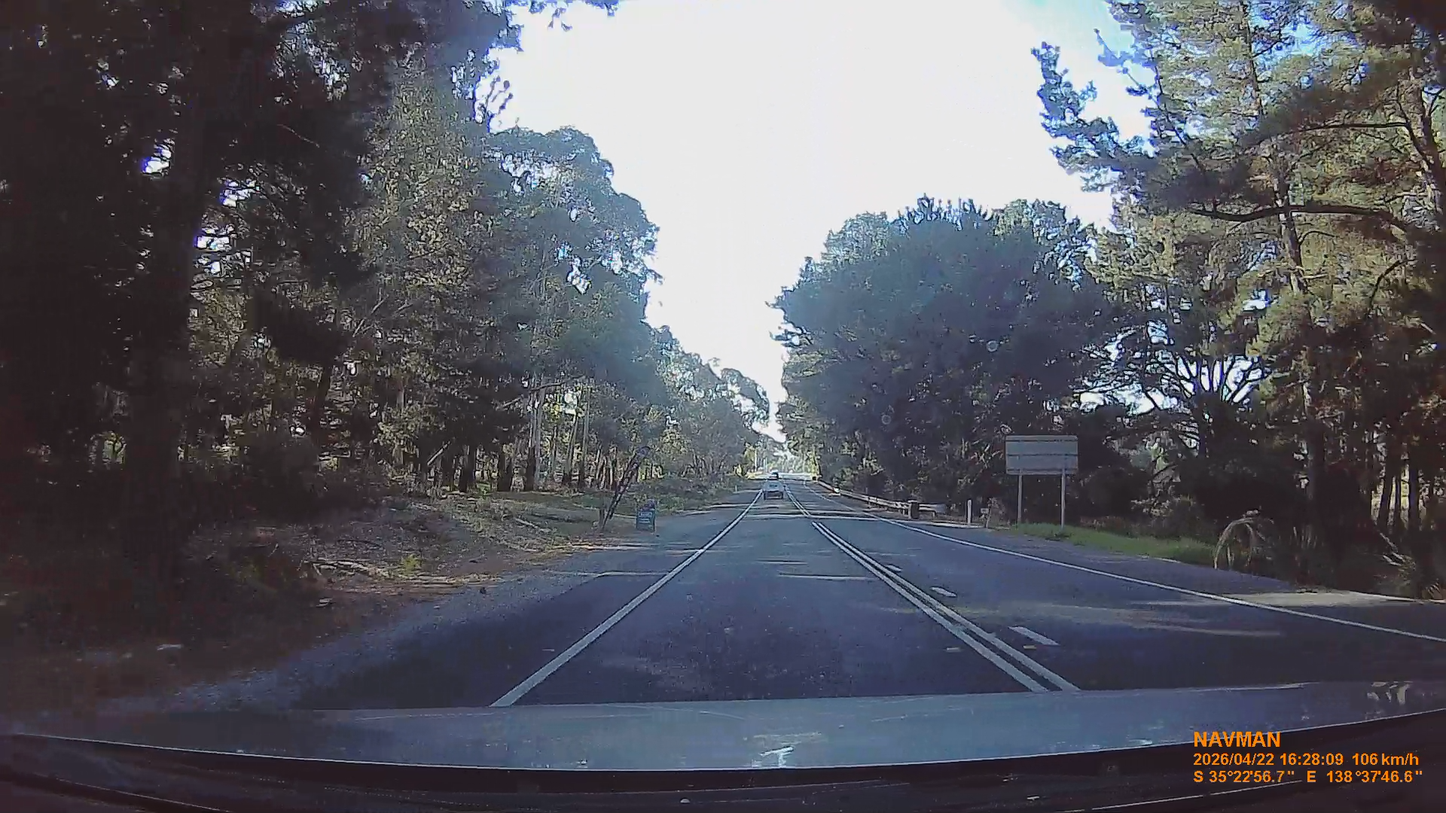road barriers: (832, 489, 899, 513), (889, 502, 919, 519), (921, 504, 942, 519)
